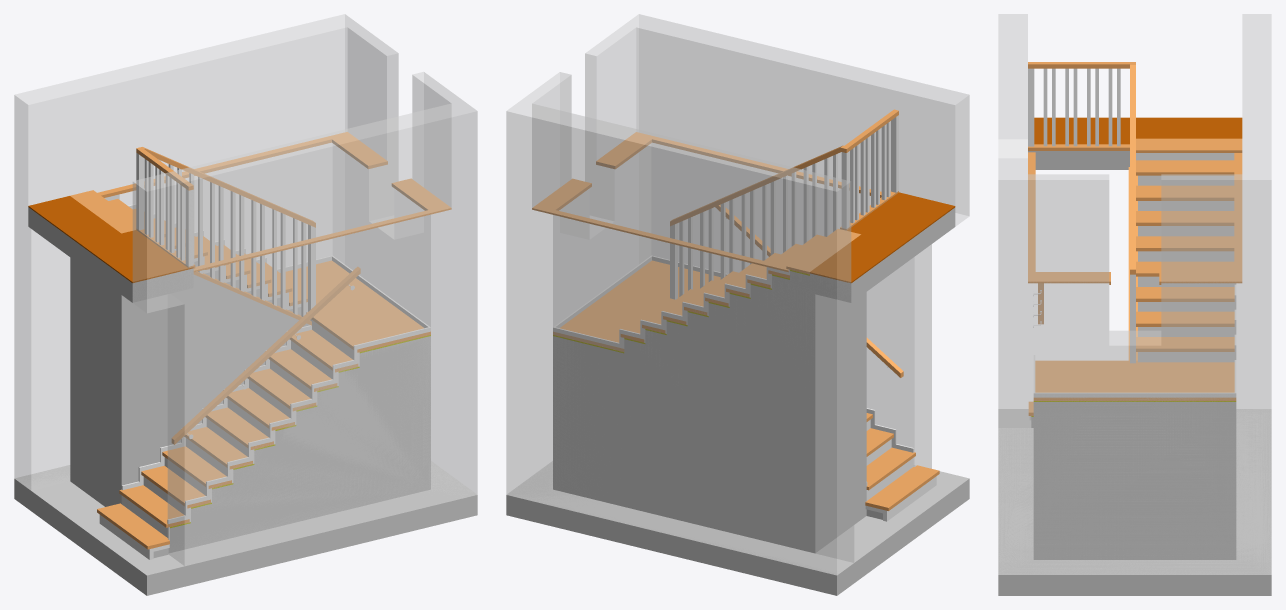
Rendered from устройство лестницы на бетонном основании.obj.
3 views of the same model, side by side, from view 1: azimuth 30°, elevation 25°; view 2: azimuth 150°, elevation 25°; view 3: azimuth 270°, elevation 25° (orthographic). The views are drawn at different scales.
Size of the model in its own units: 4.24 by 4.95 by 2.94.
